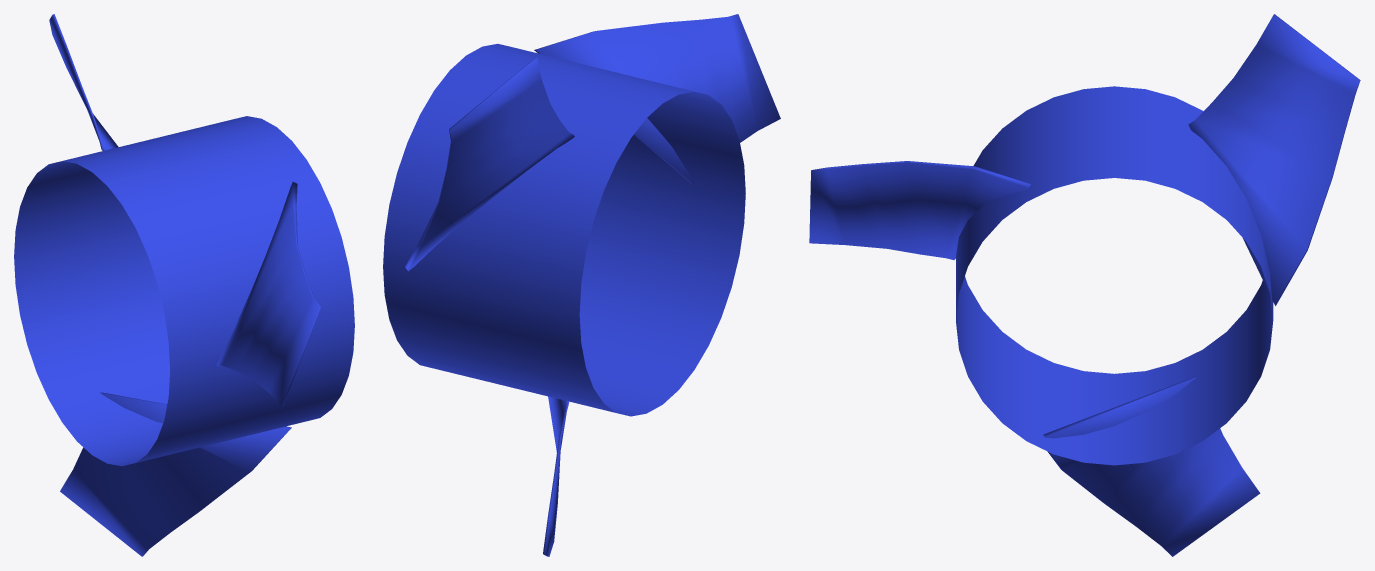
File: thruster_propeller.visual.glb
3 views of the same model, side by side, from view 1: azimuth 30°, elevation 25°; view 2: azimuth 150°, elevation 25°; view 3: azimuth 270°, elevation 25° (orthographic). The views are drawn at different scales.
Parts seen in each view (by area): view 1: Cylinder.003; view 2: Cylinder.003; view 3: Cylinder.003.
Part boxes in pixels (x1,y1,x2,y2): Cylinder.003: (14,14,354,556); Cylinder.003: (383,14,780,556); Cylinder.003: (809,14,1360,556).
Bounding box in the file's own units: 0.0274 × 0.073 × 0.0697.
